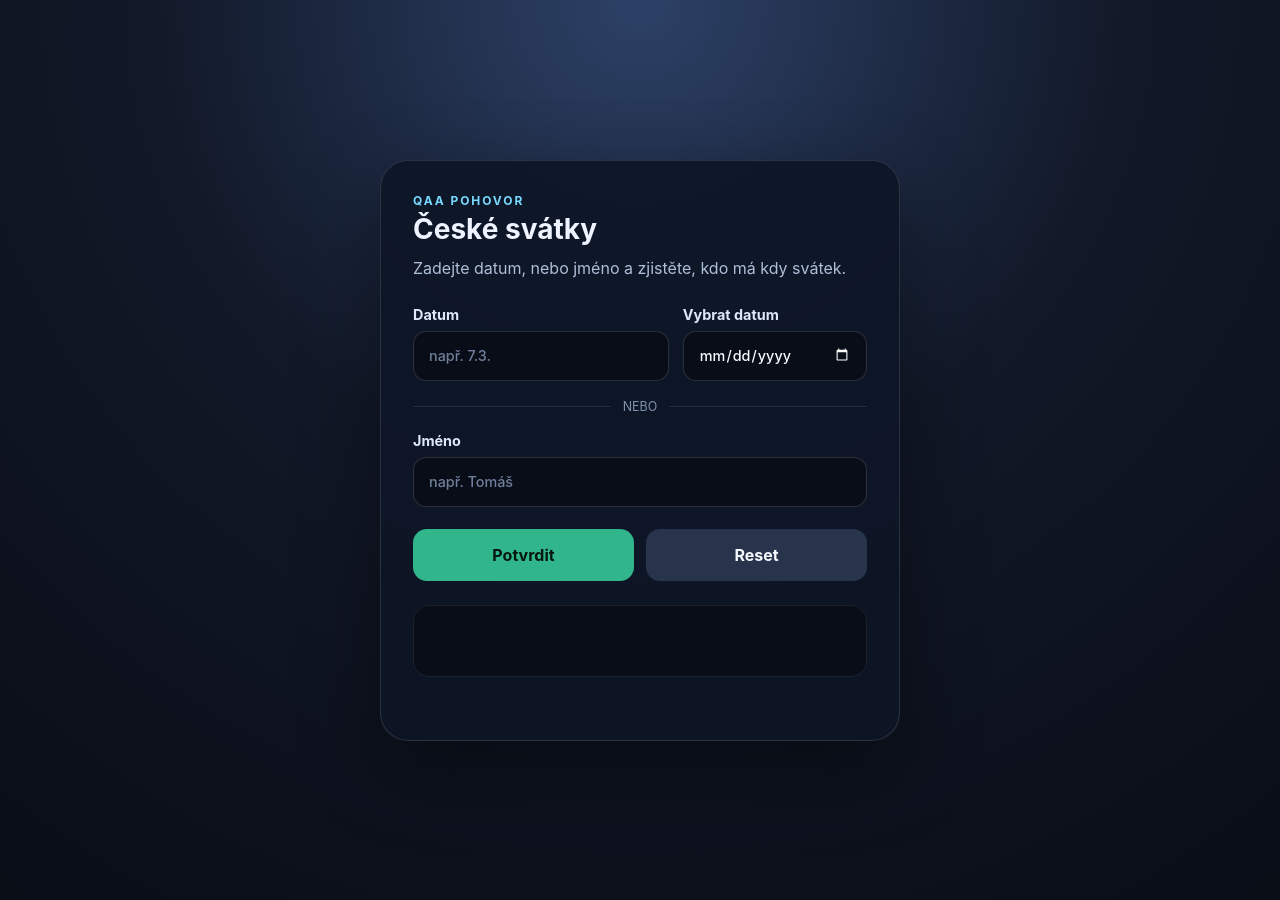
Test: NamedayForm › Rendering the result › renders the zero-names message
In the field with test id "date-input": (541, 356) [413,330,669,380], type "1.1."
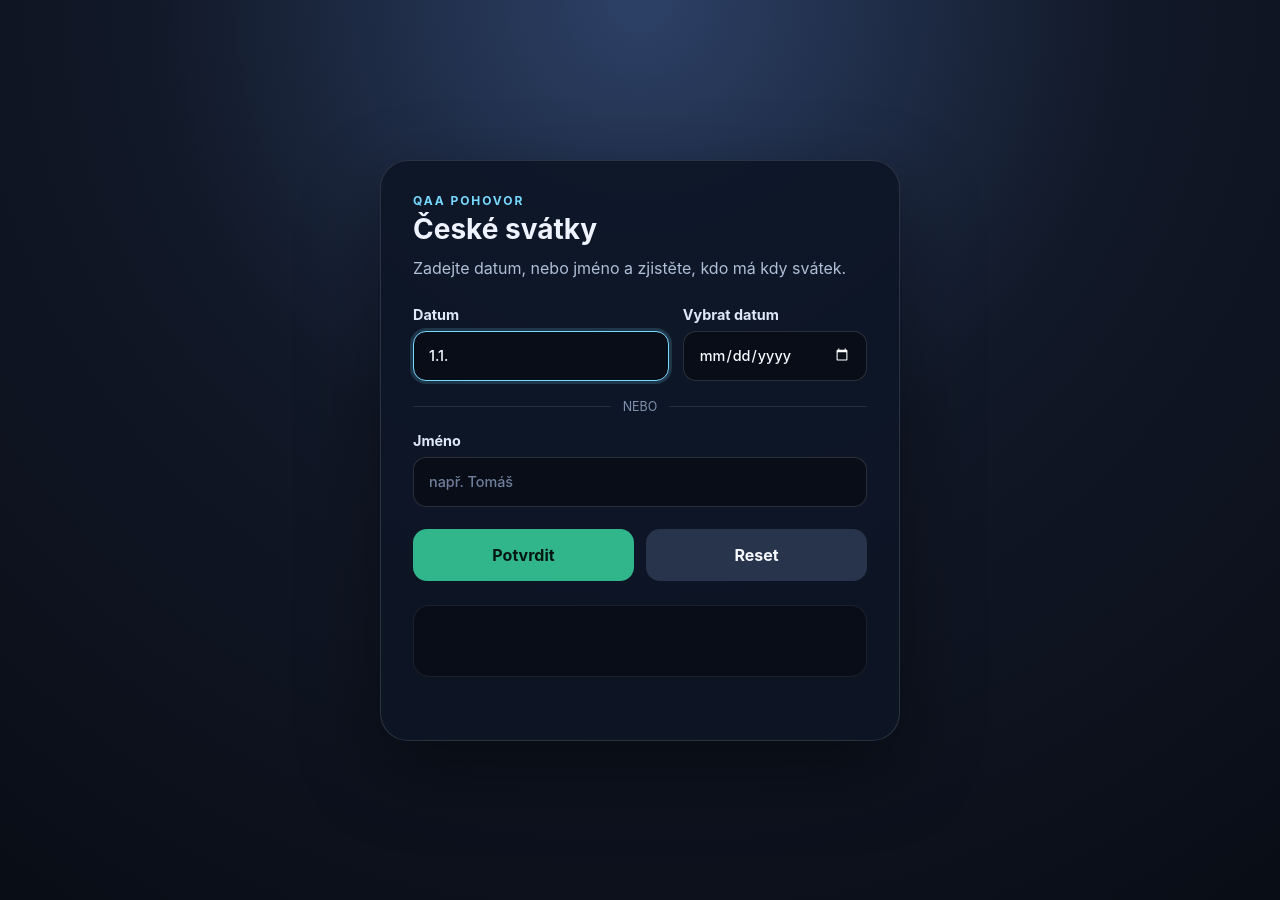
Click the button with test id "confirm": (524, 554) [413,528,634,580]
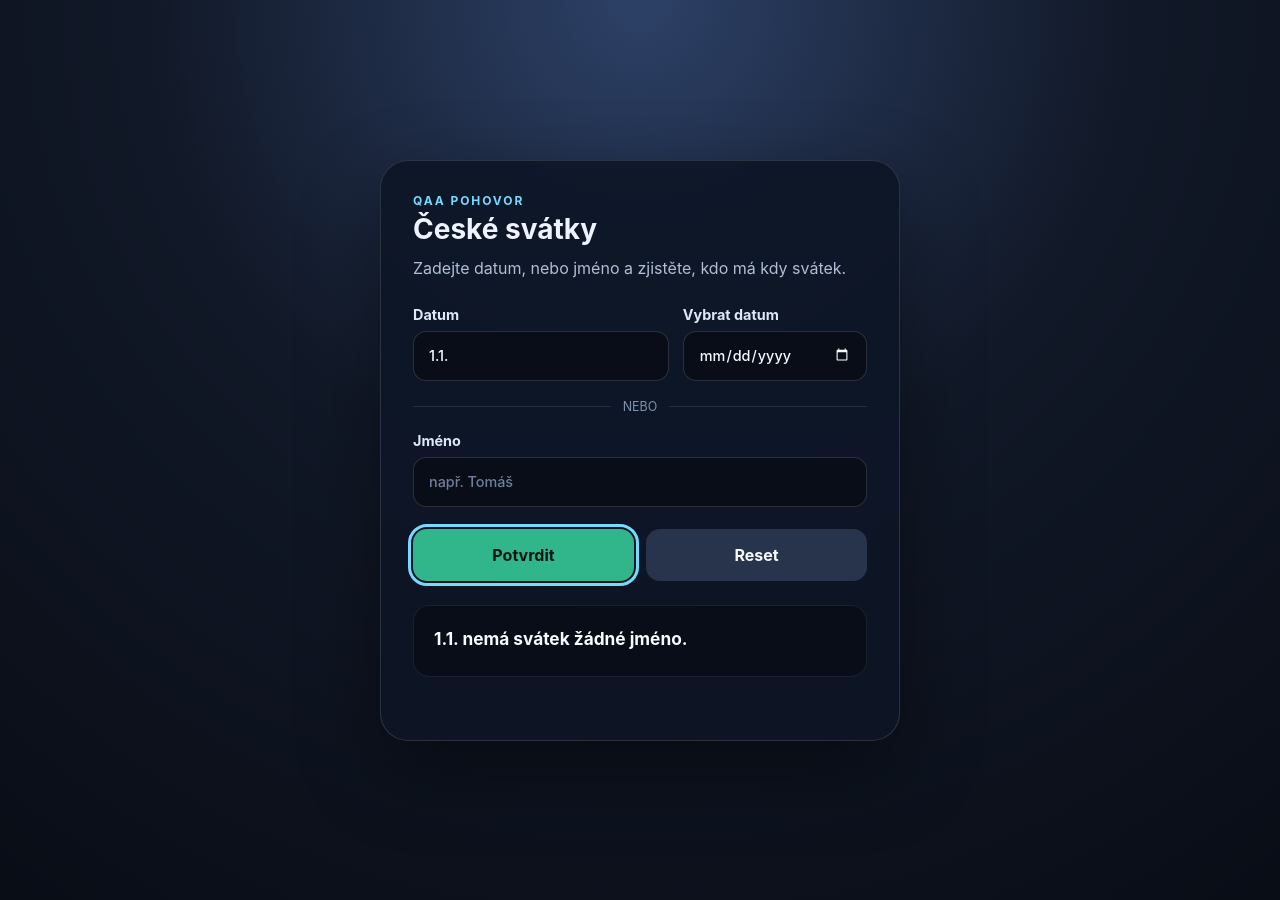
Expected: the text with test id "result" reads "1.1. nemá svátek žádné jméno.", [434,628,688,648]
